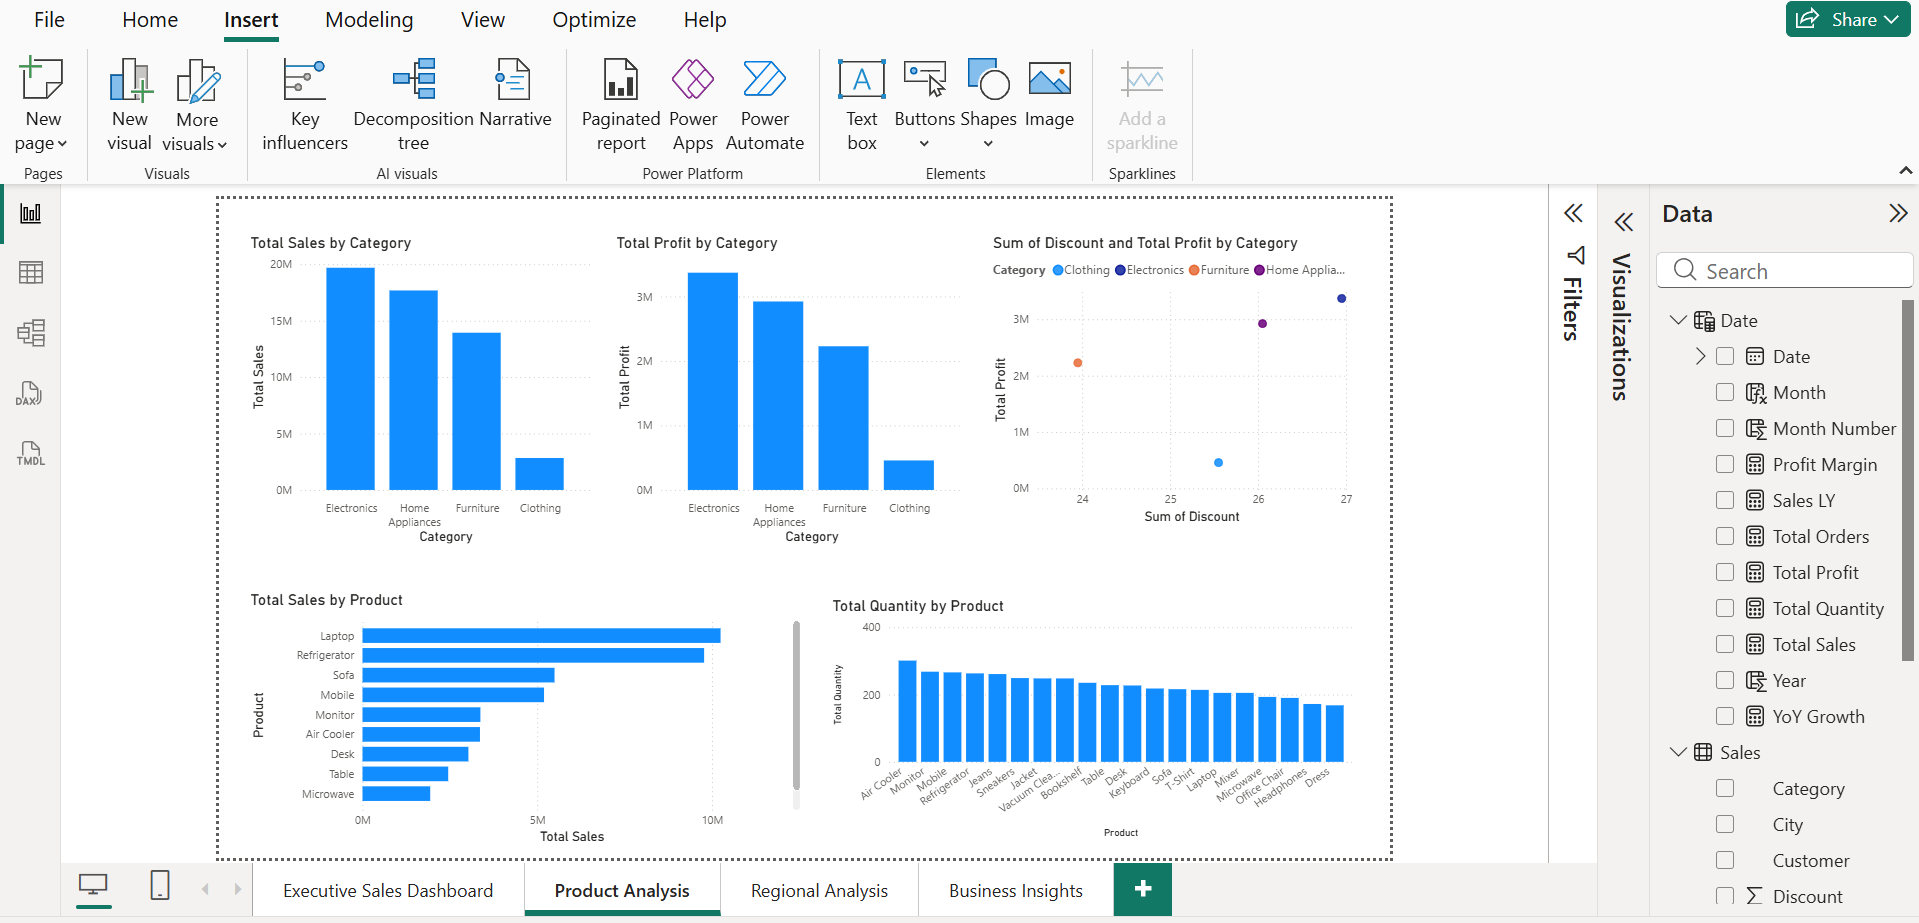

The page's visual inventory and layout, read from the dashboard file:
{"tool":"powerbi","page":{"name":"Product Analysis","canvas":[1280,720],"ordinal":1},"visuals":[{"type":"clusteredColumnChart","fields":{"Category":["Sales.Category"],"Y":["Date.Total Sales"]},"box":[30.2,37.8,381.7,343.9],"z":0},{"type":"clusteredColumnChart","fields":{"Category":["Sales.Category"],"Y":["Date.Total Profit"]},"box":[429,37.8,387.4,343.9],"z":1000},{"type":"clusteredBarChart","fields":{"Category":["Sales.Product"],"Y":["Date.Total Sales"]},"box":[30.2,427.1,610.4,281.6],"z":2000},{"type":"clusteredColumnChart","fields":{"Category":["Sales.Product"],"Y":["Date.Total Quantity"]},"box":[665.2,434.6,578.3,268.3],"z":3000},{"type":"scatterChart","fields":{"X":["Sum(Sales.Discount)"],"Y":["Date.Total Profit"],"Series":["Sales.Category"]},"box":[841,37.8,402.5,321.3],"z":4000}]}

Visuals, with their boxes on the page's 1280x720 design canvas (x1, y1, x2, y2). These are canvas units, not pixel positions in the 1919x923 screenshot, which may show the page scaled, cropped or inside an application window:
clusteredColumnChart - Sales.Category x Date.Total Sales: detection(30, 38, 412, 382)
clusteredColumnChart - Sales.Category x Date.Total Profit: detection(429, 38, 816, 382)
clusteredBarChart - Sales.Product x Date.Total Sales: detection(30, 427, 641, 709)
clusteredColumnChart - Sales.Product x Date.Total Quantity: detection(665, 435, 1244, 703)
scatterChart - Sum(Sales.Discount) x Date.Total Profit: detection(841, 38, 1244, 359)
